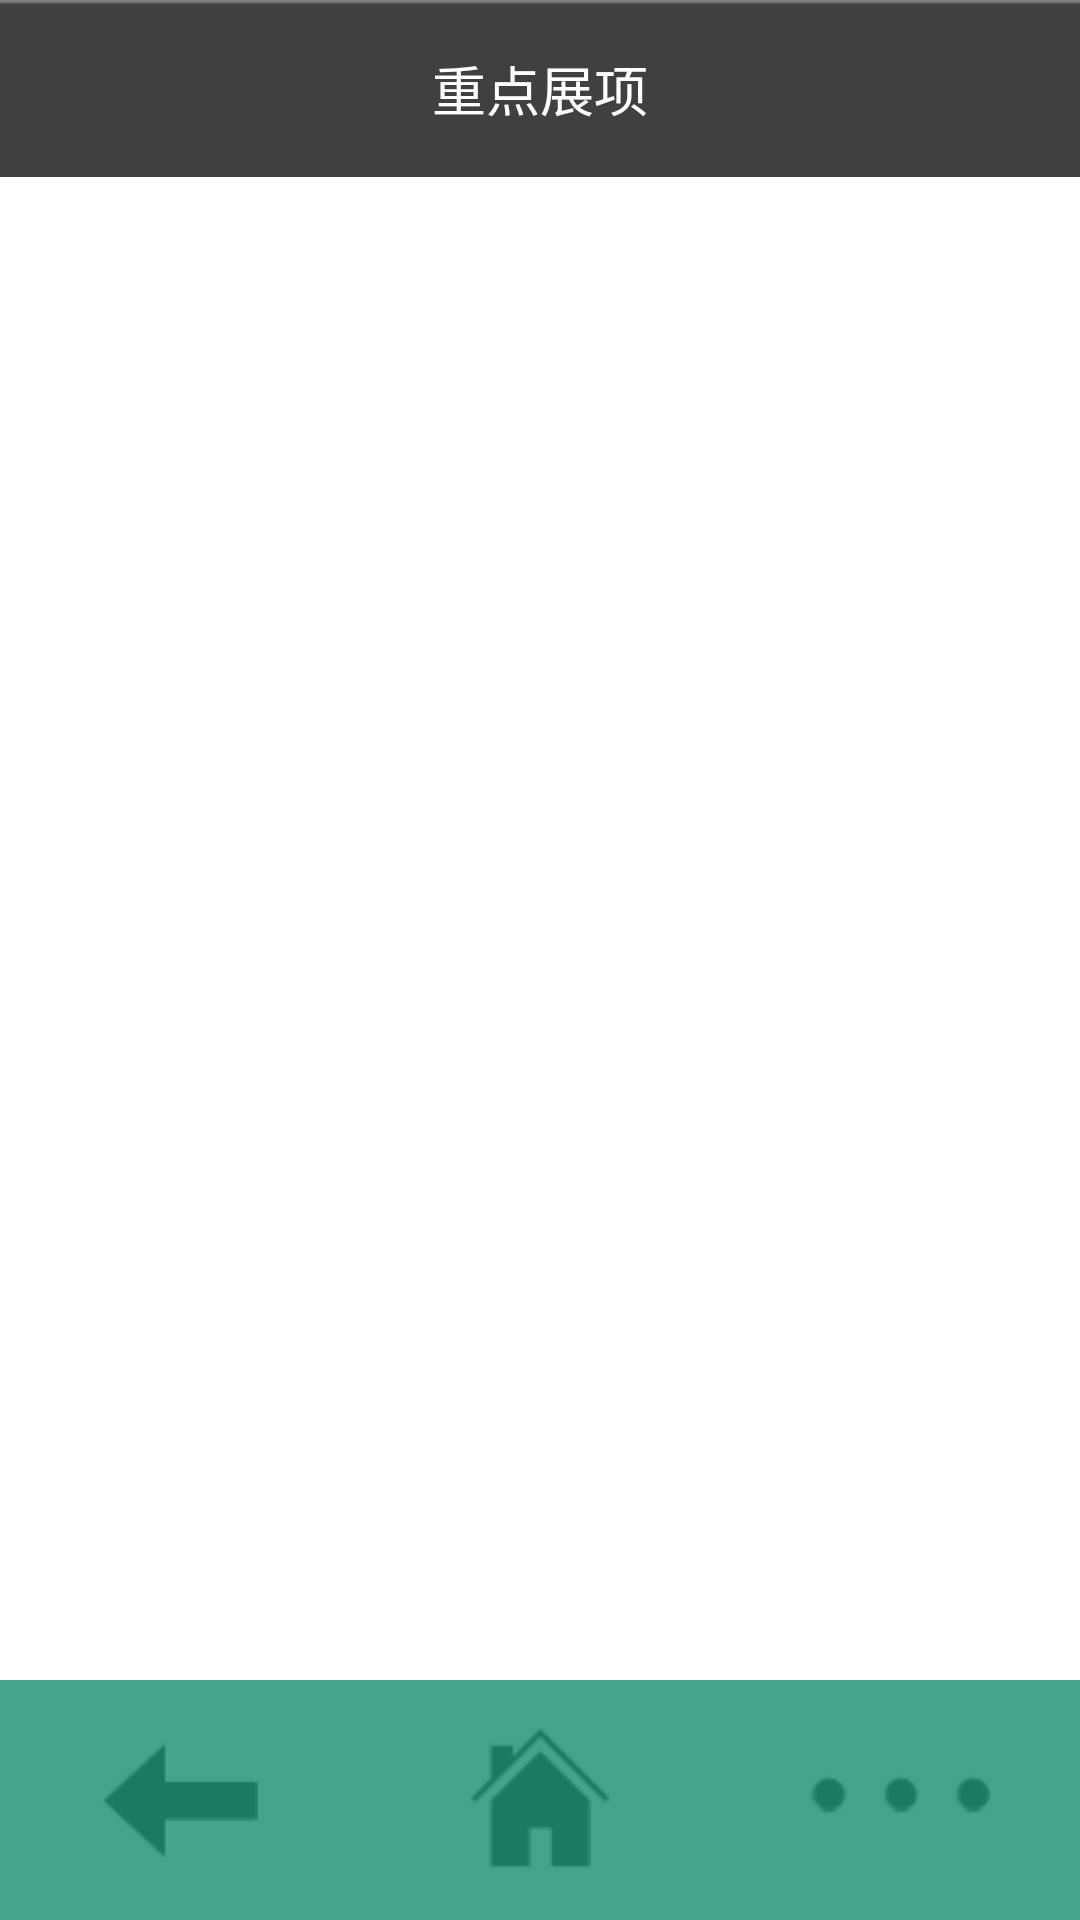

Named icons in this screenshot (1080*1920) and their bounding boxes, (x1, y1, x2, y2):
back: (105, 1746, 258, 1855)
home: (473, 1731, 609, 1866)
